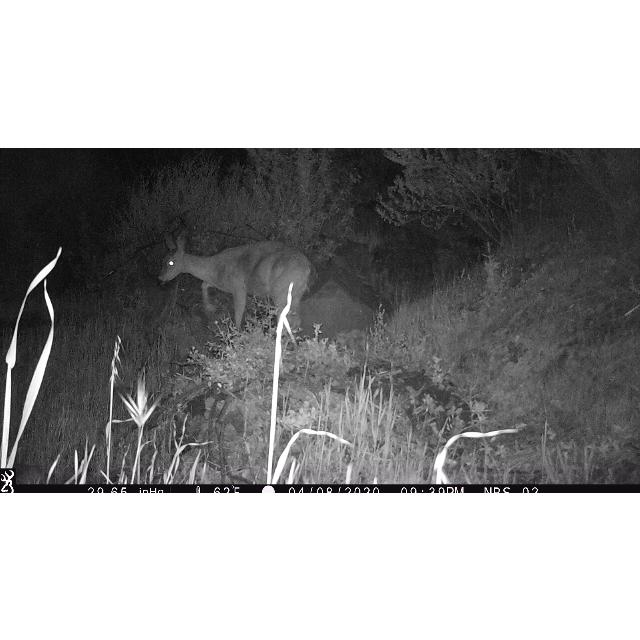animals: (156, 232, 310, 342)
